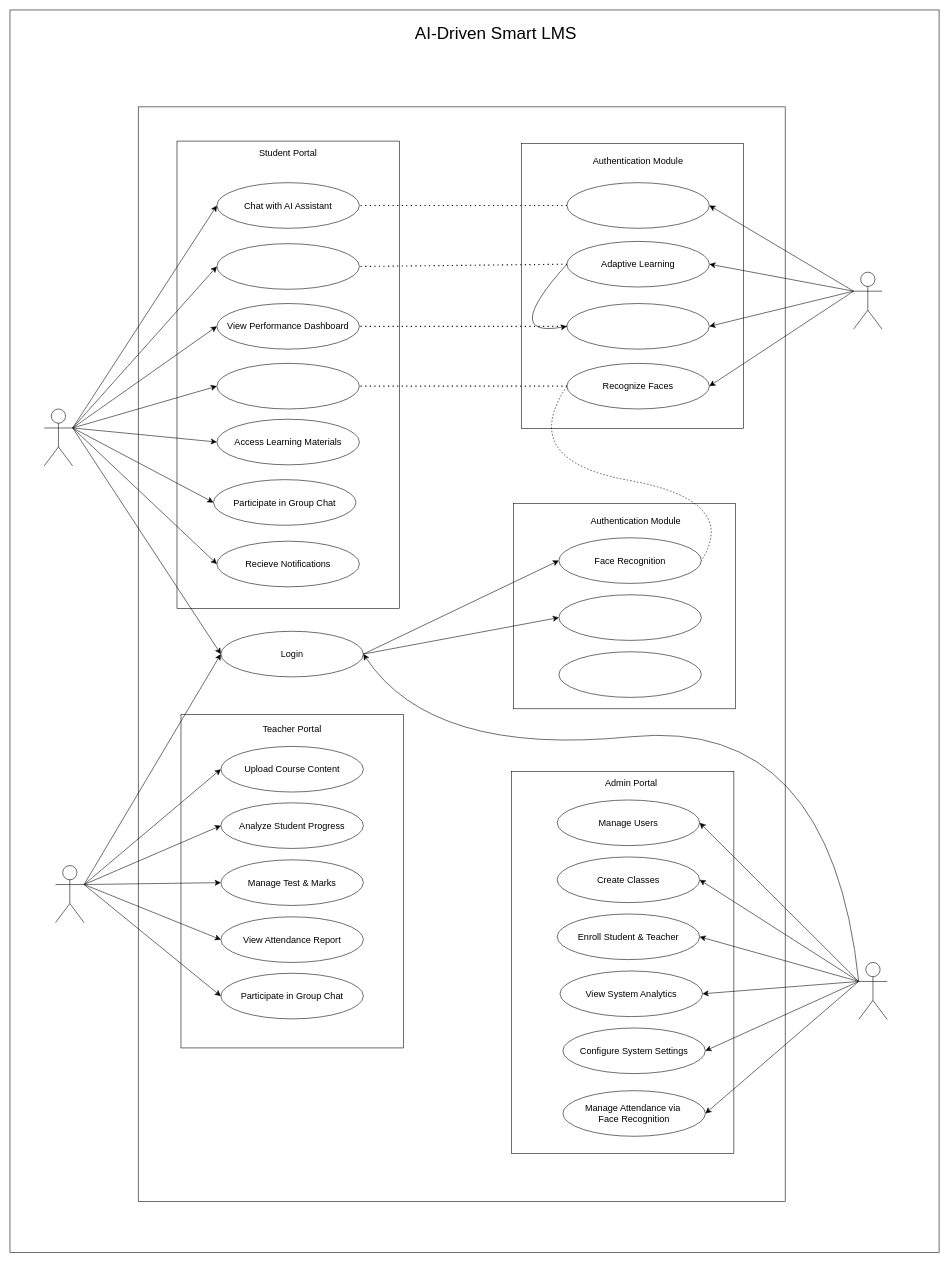
Some shapes in this 949 by 1263 pixel diagram are drawn without their labels. Here are the shapes that lost their labels. From the top down, the box of each, then its label:
(566, 182, 709, 228): Answer Student Queries
(216, 243, 359, 289): Take Adaptive Quiz
(853, 272, 882, 329): AI System
(566, 303, 709, 349): Generate Recommendations
(216, 363, 359, 409): Face Recognization & Attendance
(44, 408, 73, 466): Student
(558, 594, 701, 640): Password
(558, 651, 701, 697): Biometric
(55, 865, 84, 923): Teacher
(858, 962, 887, 1019): Admin
